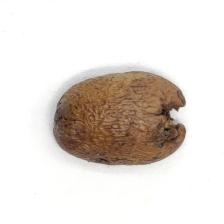NG: (71, 86, 139, 150), (144, 72, 186, 149)
